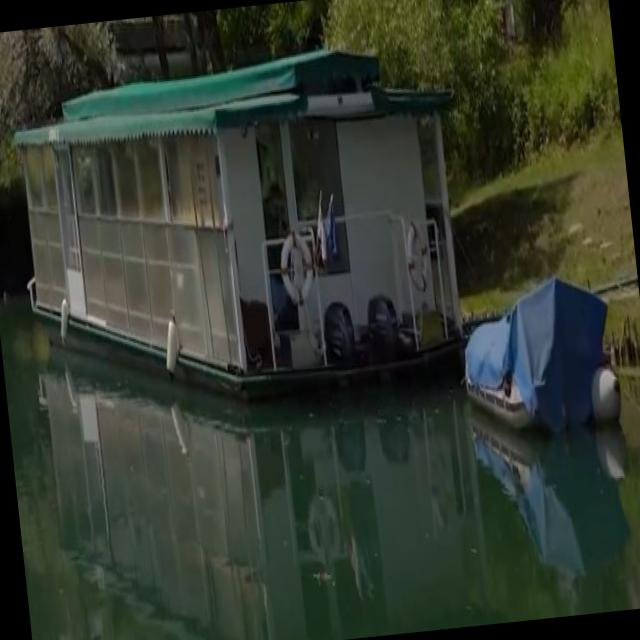boat: (0, 28, 488, 469)
